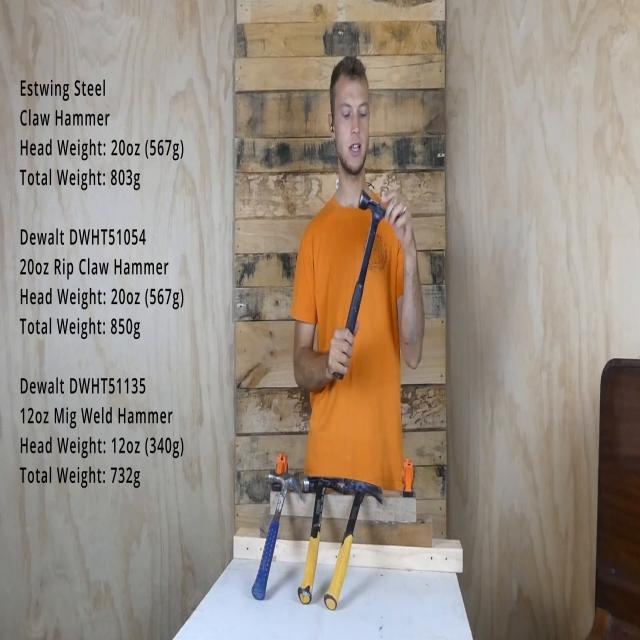hammer: (333, 192, 395, 380), (324, 479, 384, 610), (250, 473, 302, 599), (298, 476, 342, 604)
